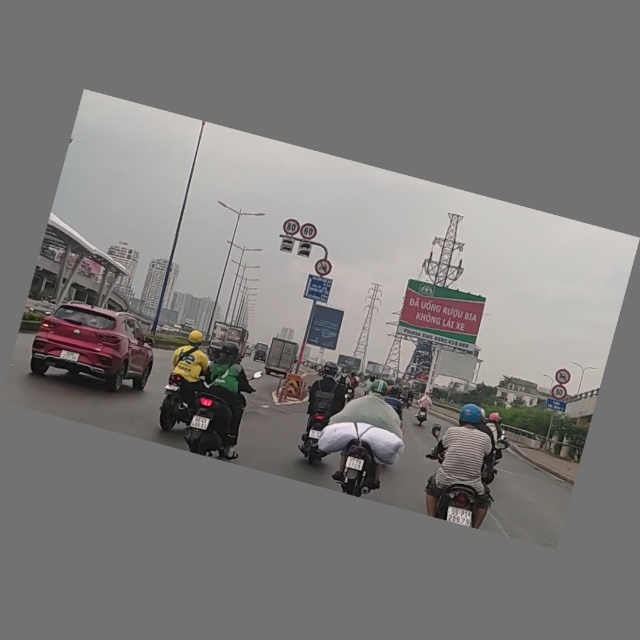P.103a: (554, 366, 573, 387)
P.104: (312, 257, 335, 278)
P.127*50: (550, 384, 568, 403)
P.127*60: (299, 223, 318, 241)
P.127*80: (283, 218, 301, 237)
